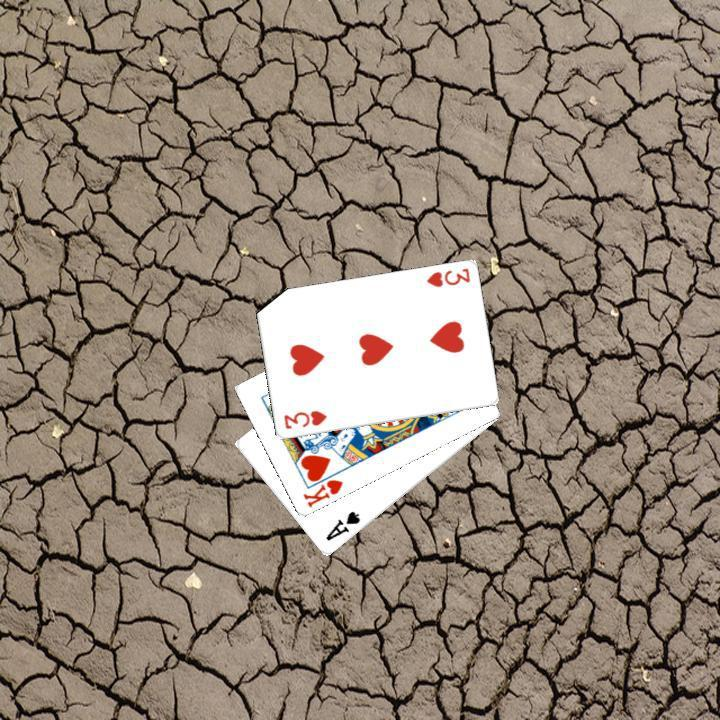3: (422, 264, 472, 290), (279, 406, 328, 431)
A: (321, 507, 362, 543)
K: (298, 475, 345, 510)
